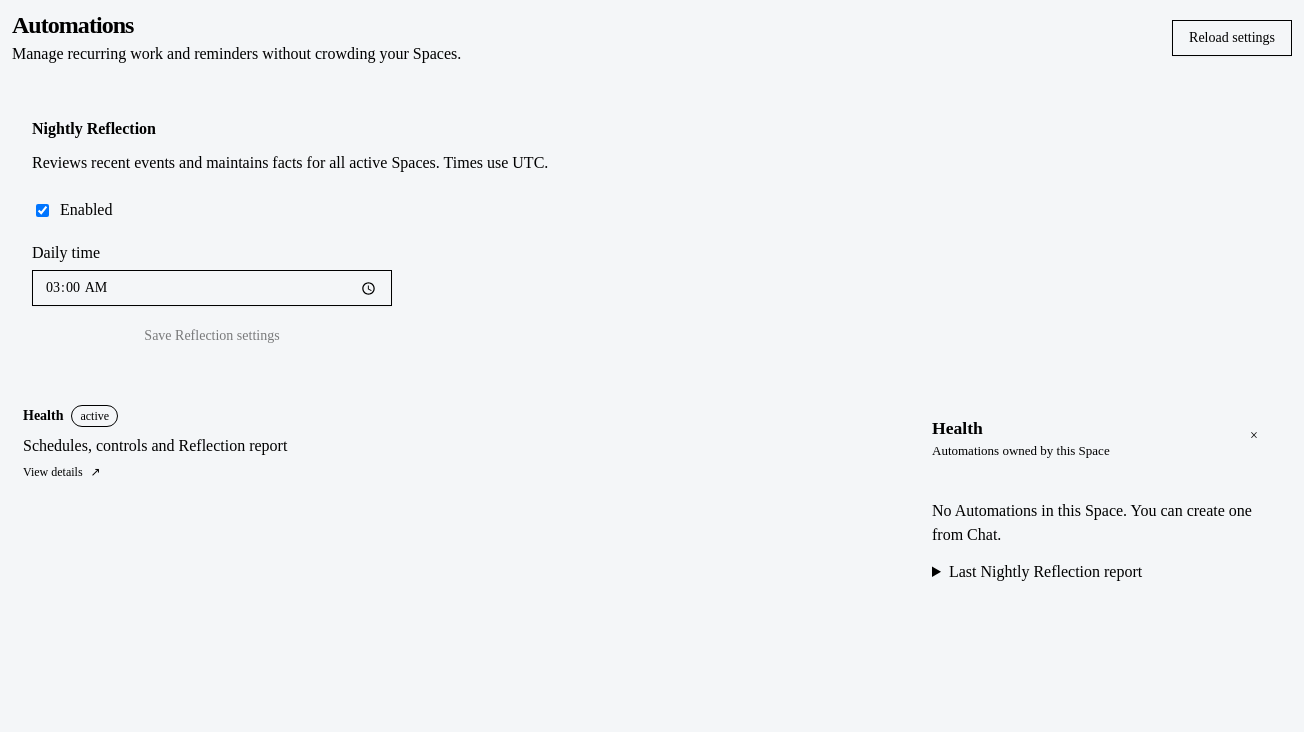
Test: keeps Settings usable and renders an unknown management Atom visibly through the read API
The image size is (1304, 732).
Click the heading "Last Nightly Reflection report". click: (1046, 572)
box: [949, 563, 1142, 580]
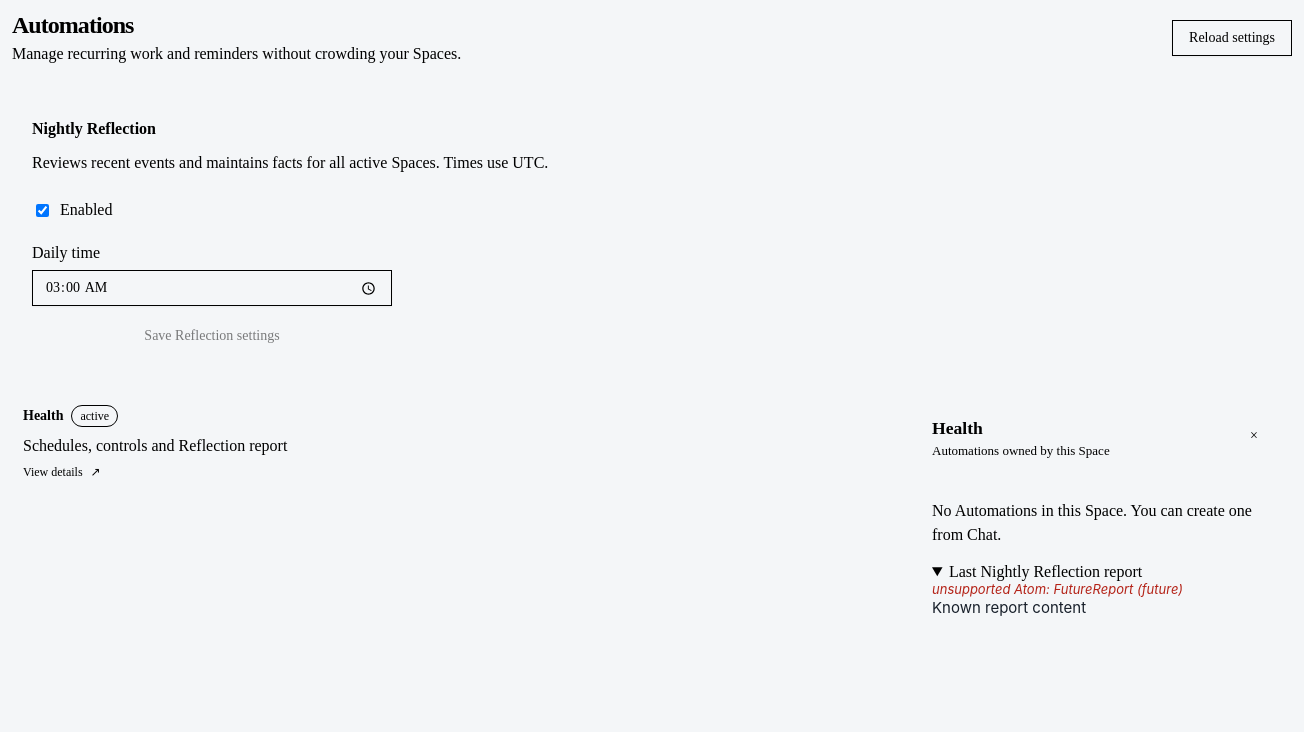
Expected: the heading "Nightly Reflection" is shown, [32, 120, 156, 137]
Now the element with test id "unknown-atom" shows "unsupported Atom: FutureReport", box [932, 581, 1183, 617]
Now the text "Known report content" is shown, box [932, 598, 1086, 617]
